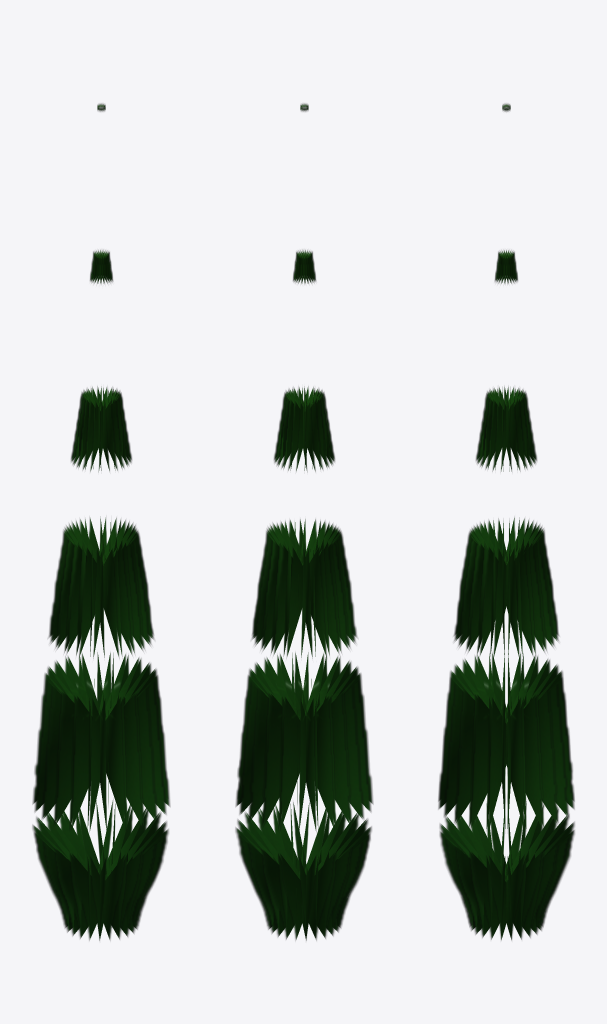
The model's file is Wetland_Cattail.glb.
3 renders of one model, left to right at view 1: azimuth 30°, elevation 25°; view 2: azimuth 150°, elevation 25°; view 3: azimuth 270°, elevation 25°, orthographic.
Visible parts, largest first — view 1: Wetland_Cattail; view 2: Wetland_Cattail; view 3: Wetland_Cattail.
Boxes of the visible parts, x1,y1,x2,y2 form: Wetland_Cattail: (32,103,170,940); Wetland_Cattail: (235,103,373,940); Wetland_Cattail: (438,103,574,940).
Size of the model in its own units: 0.32 by 1.91 by 0.3167.
Materials: 1 (1 with a texture image).
